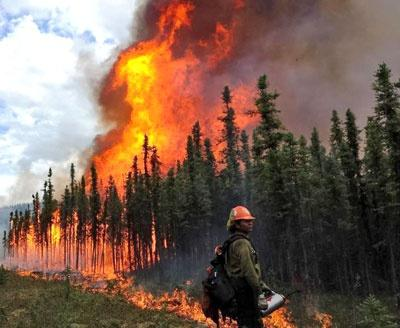victim: (201, 201, 276, 328)
